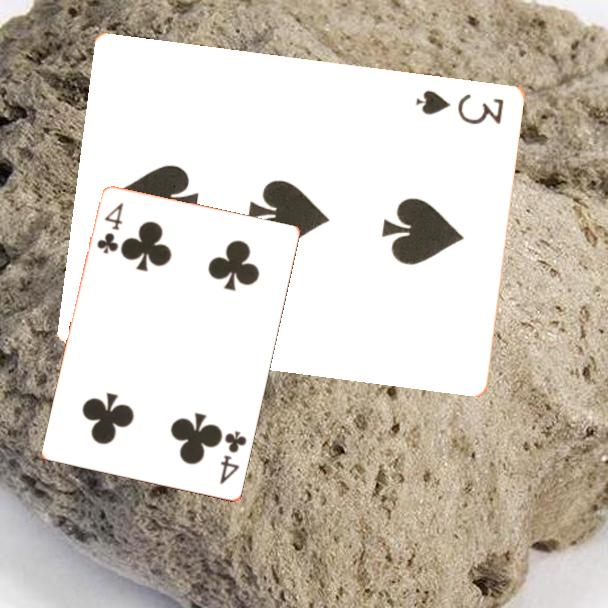c04: (216, 427, 250, 488), (93, 199, 127, 257)
s03: (413, 86, 507, 127)
